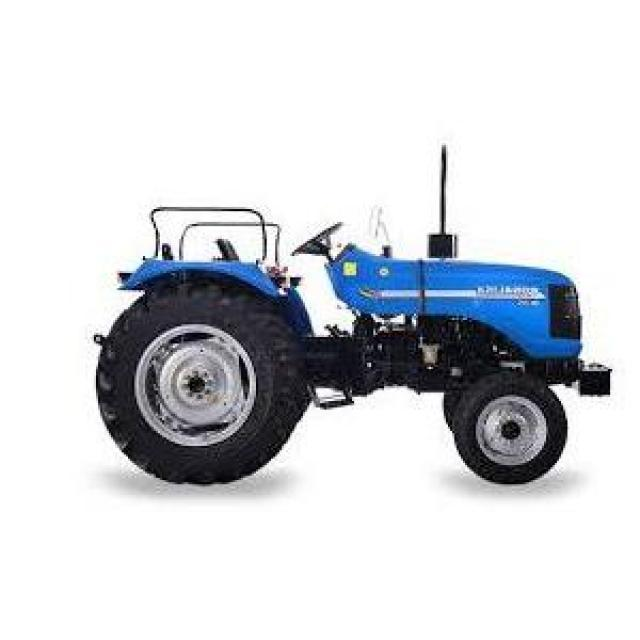Tratores - v5 YOLO V8L 2024-11-13: (87, 146, 608, 498)
